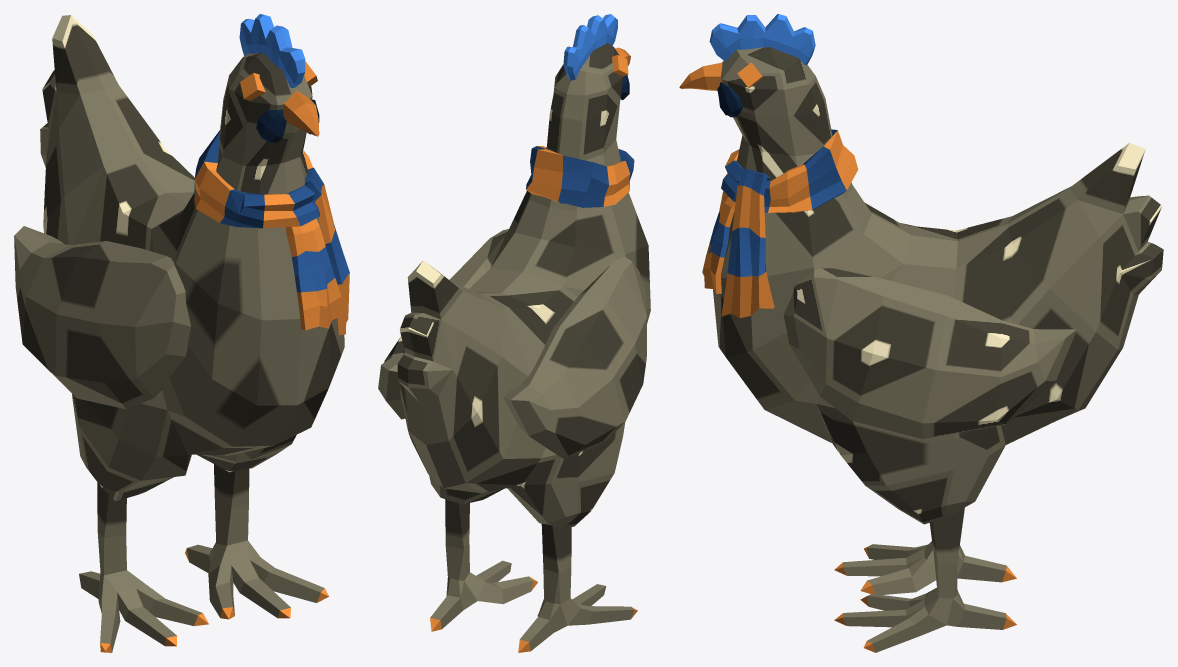
The model's file is SM_Prop_Chicken_01.fbx.
3 views of the same model, side by side, from view 1: azimuth 30°, elevation 25°; view 2: azimuth 150°, elevation 25°; view 3: azimuth 270°, elevation 25° (orthographic). The views are drawn at different scales.
Parts seen in each view (by area): view 1: SM_Prop_Chicken_01; view 2: SM_Prop_Chicken_01; view 3: SM_Prop_Chicken_01.
Boxes of the visible parts, x1,y1,x2,y2 form: SM_Prop_Chicken_01: [14, 14, 349, 652]; SM_Prop_Chicken_01: [378, 14, 650, 652]; SM_Prop_Chicken_01: [679, 14, 1163, 652].
Size of the model in its own units: 33.24 by 79.64 by 59.23.
1 material, 1 textured.
